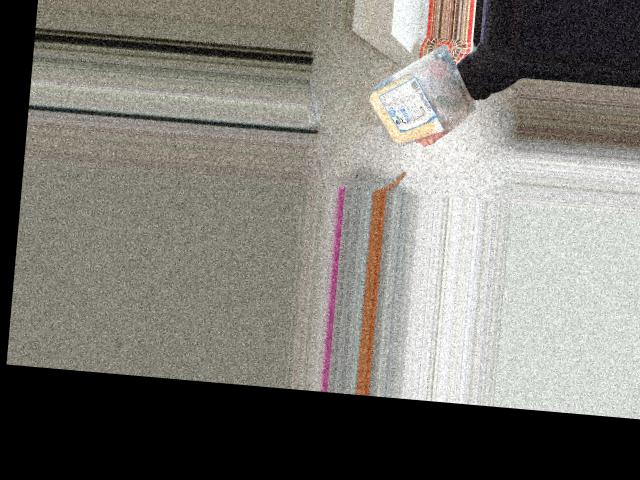cheese: (363, 79, 461, 139)
